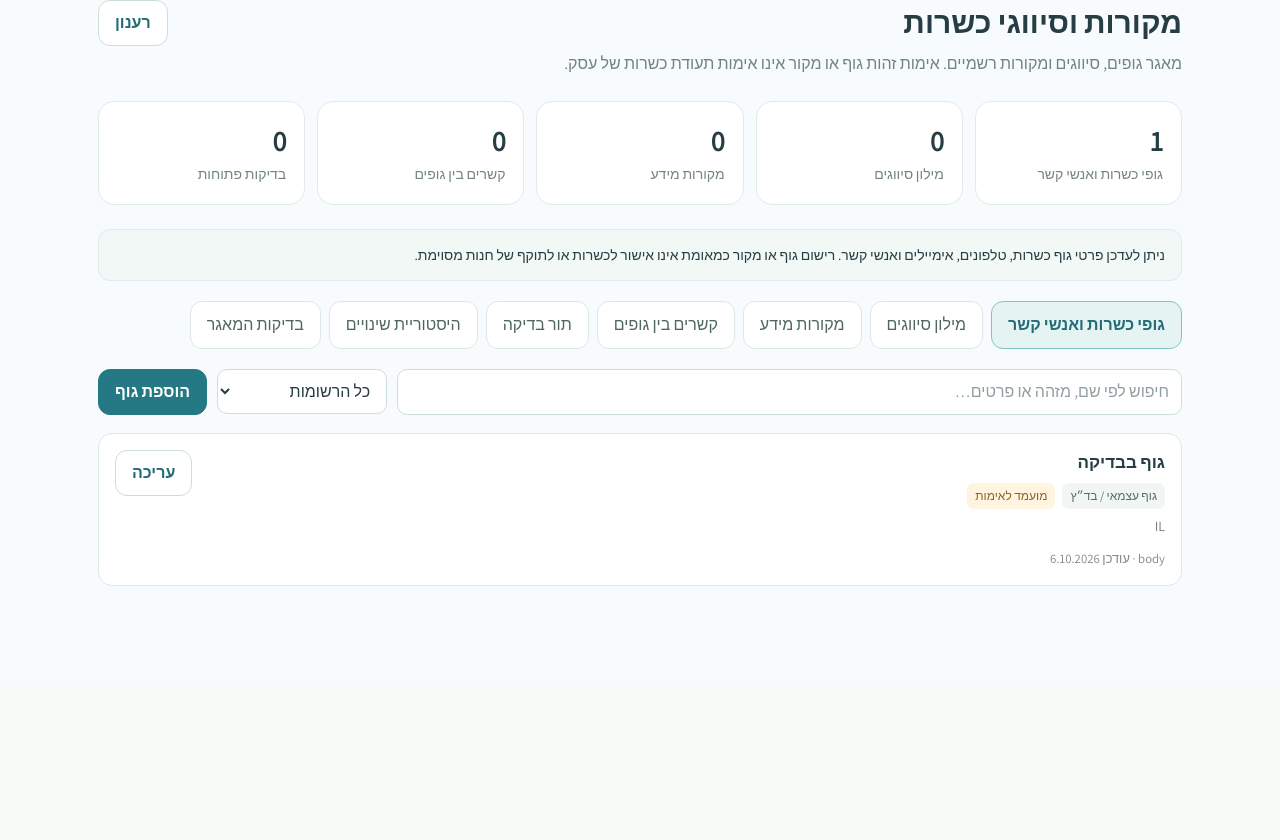
Scenario: allows a manager to create a source linked to an agency, defaulting to planned candidate
Expected: the heading "גוף בבדיקה" is shown, [1078,451,1165,473]
Click the button "מקורות מידע".
click(802, 325)  # box [743,301,862,349]
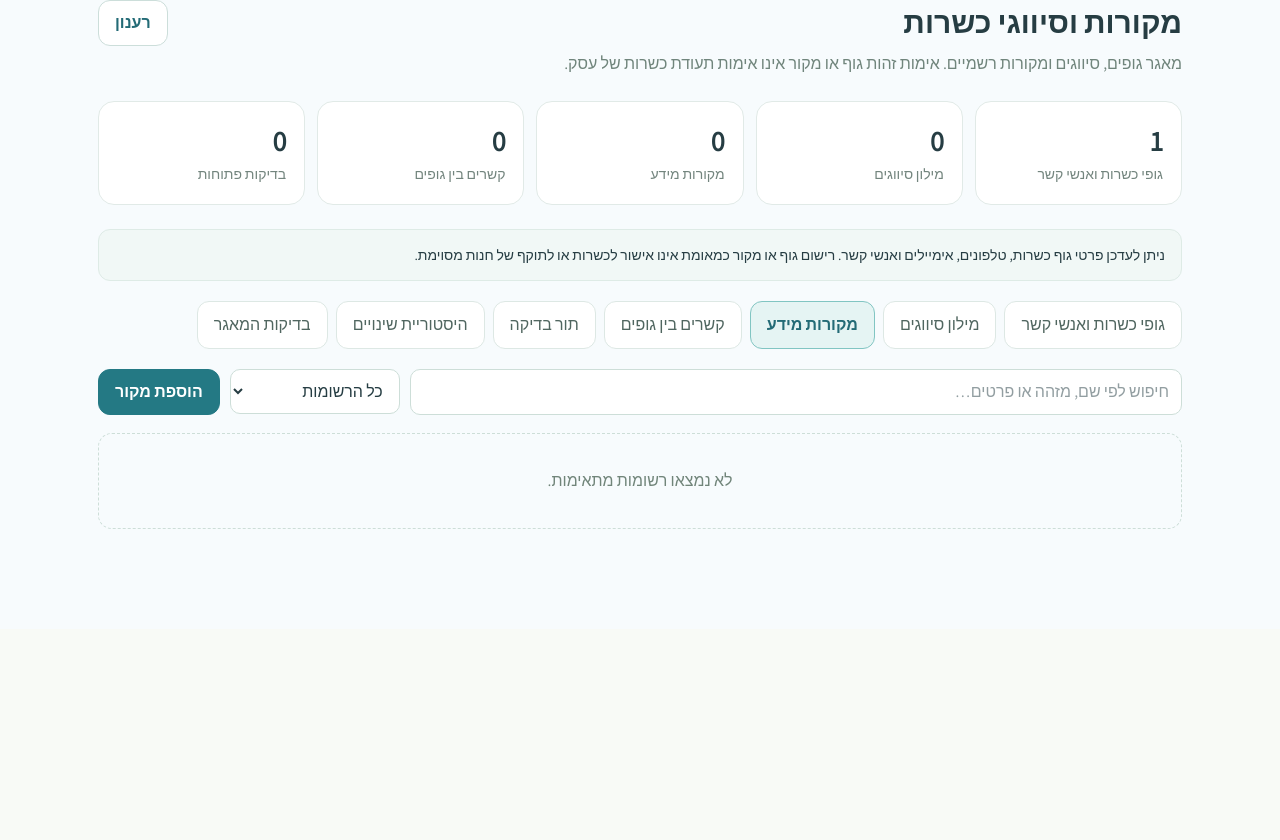
Click the button "הוספת מקור".
click(159, 392)  # box [98,369,220,415]
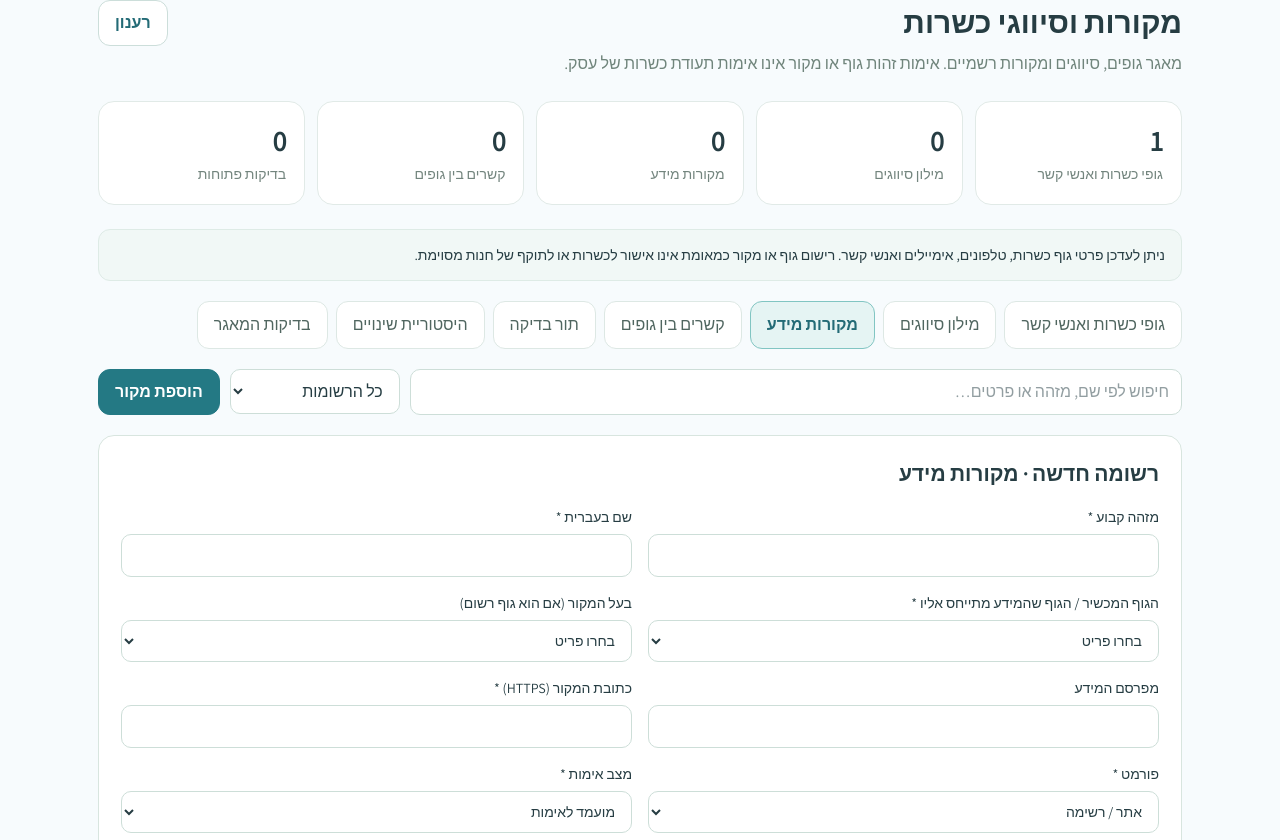
Type "new_source" into the field labelled "מזהה קבוע *".
click(904, 556); type("new_source")  # box [648,534,1159,578]
Type "רשימה רשמית" into the field labelled "שם בעברית *".
click(376, 556); type("רשימה רשמית")  # box [121,534,632,578]
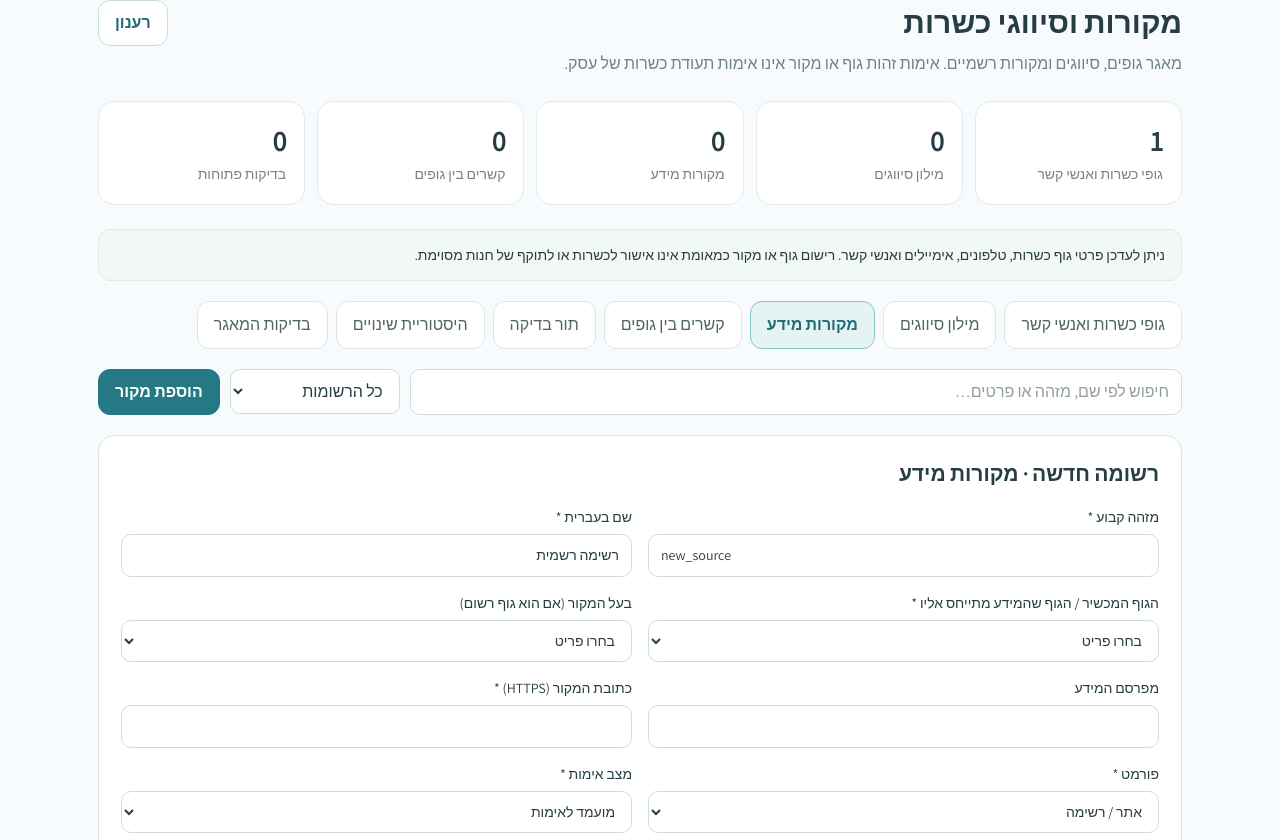
Select "גוף בבדיקה" in the dropdown labelled "הגוף המכשיר / הגוף שהמידע מתייחס אליו *" at (904, 642), box [648,620,1159,662]
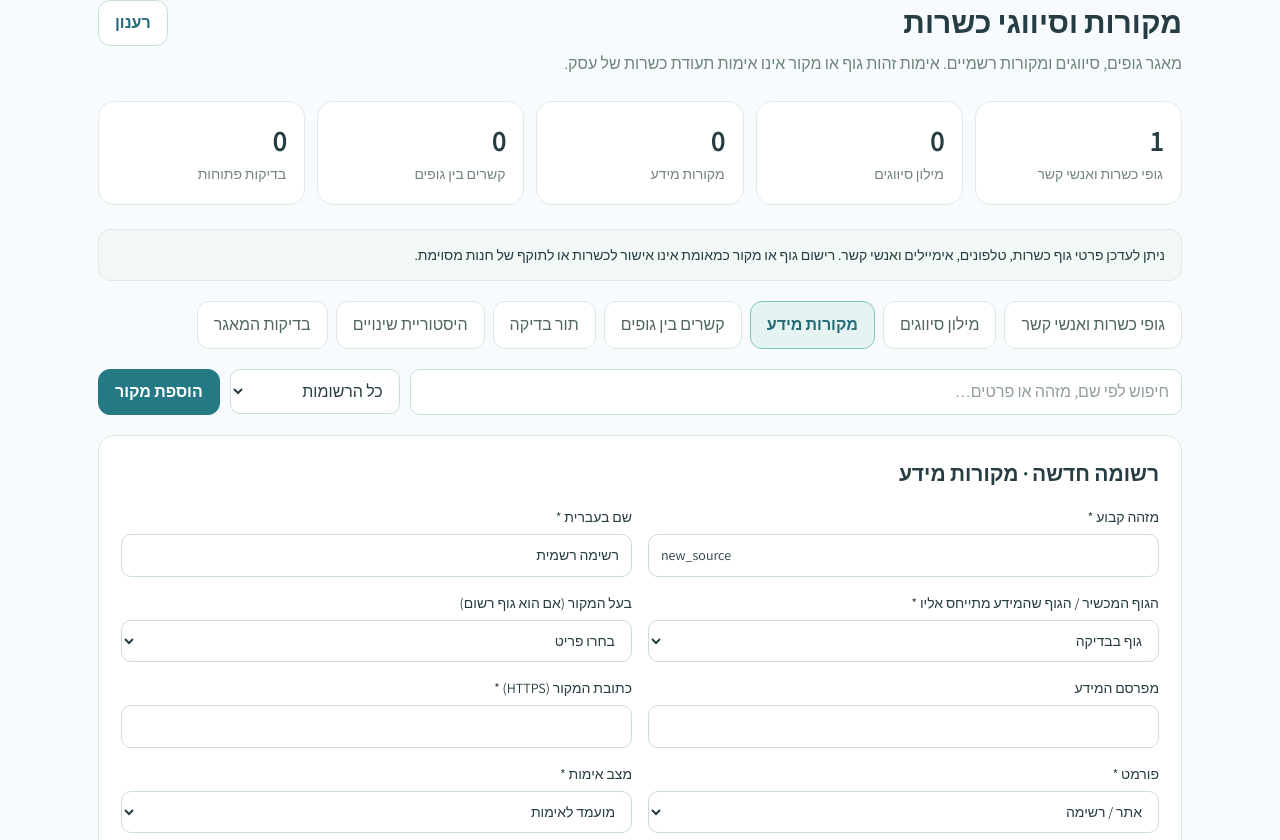
Type "https://example.org/directory" into the field labelled "כתובת המקור (HTTPS) *".
click(376, 727); type("https://example.org/directory")  # box [121,706,632,748]
(page scrolled)
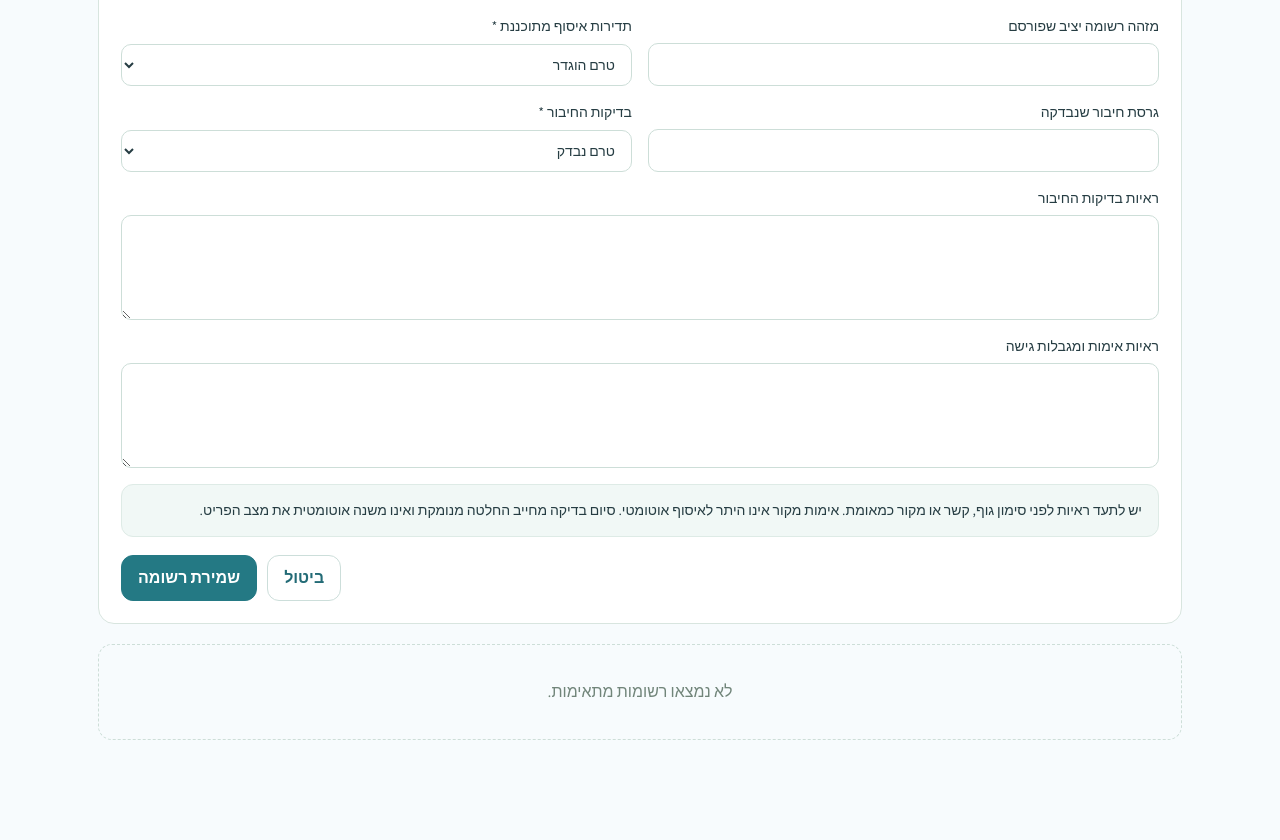
Click the button "שמירת רשומה".
click(189, 578)  # box [121,555,257,601]
(page scrolled)
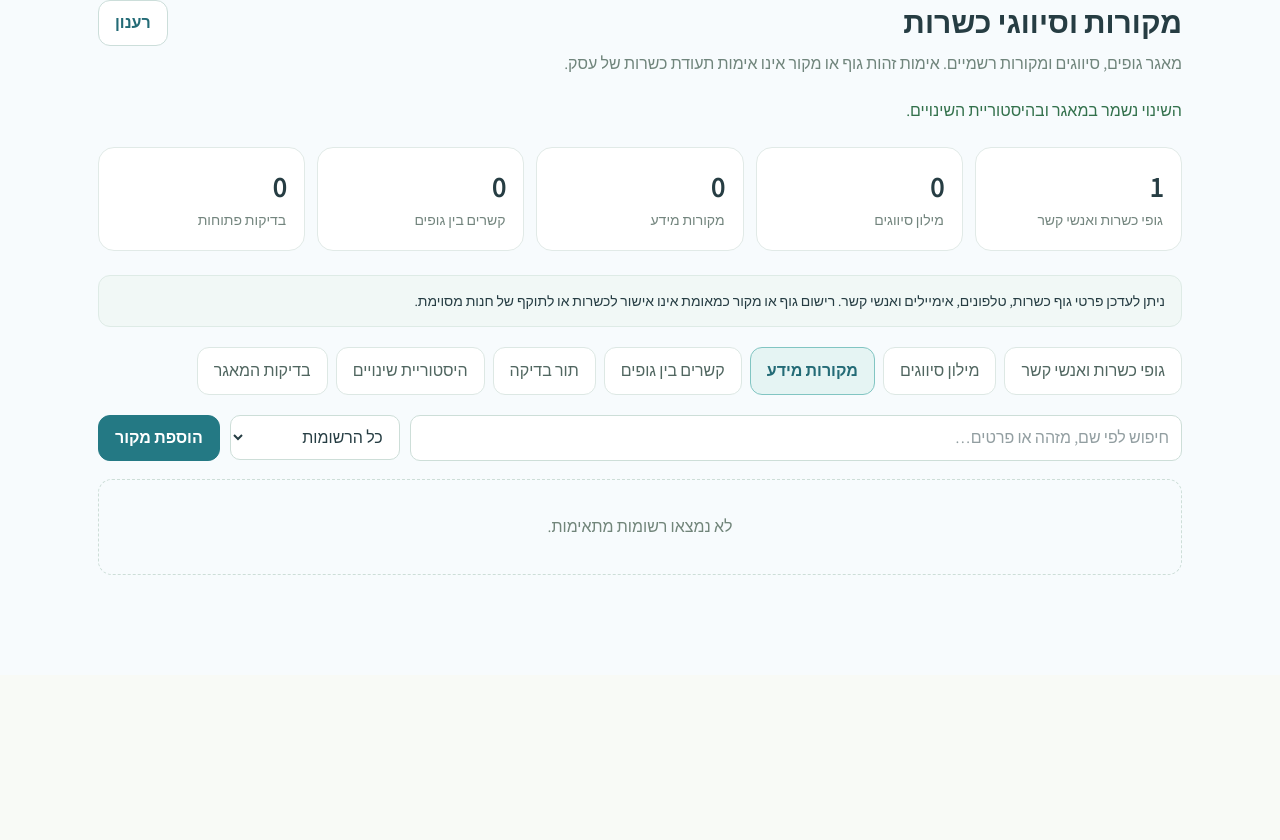
Expected: the text "השינוי נשמר במאגר ובהיסטוריית השינויים." is shown, [906,100,1182,121]
